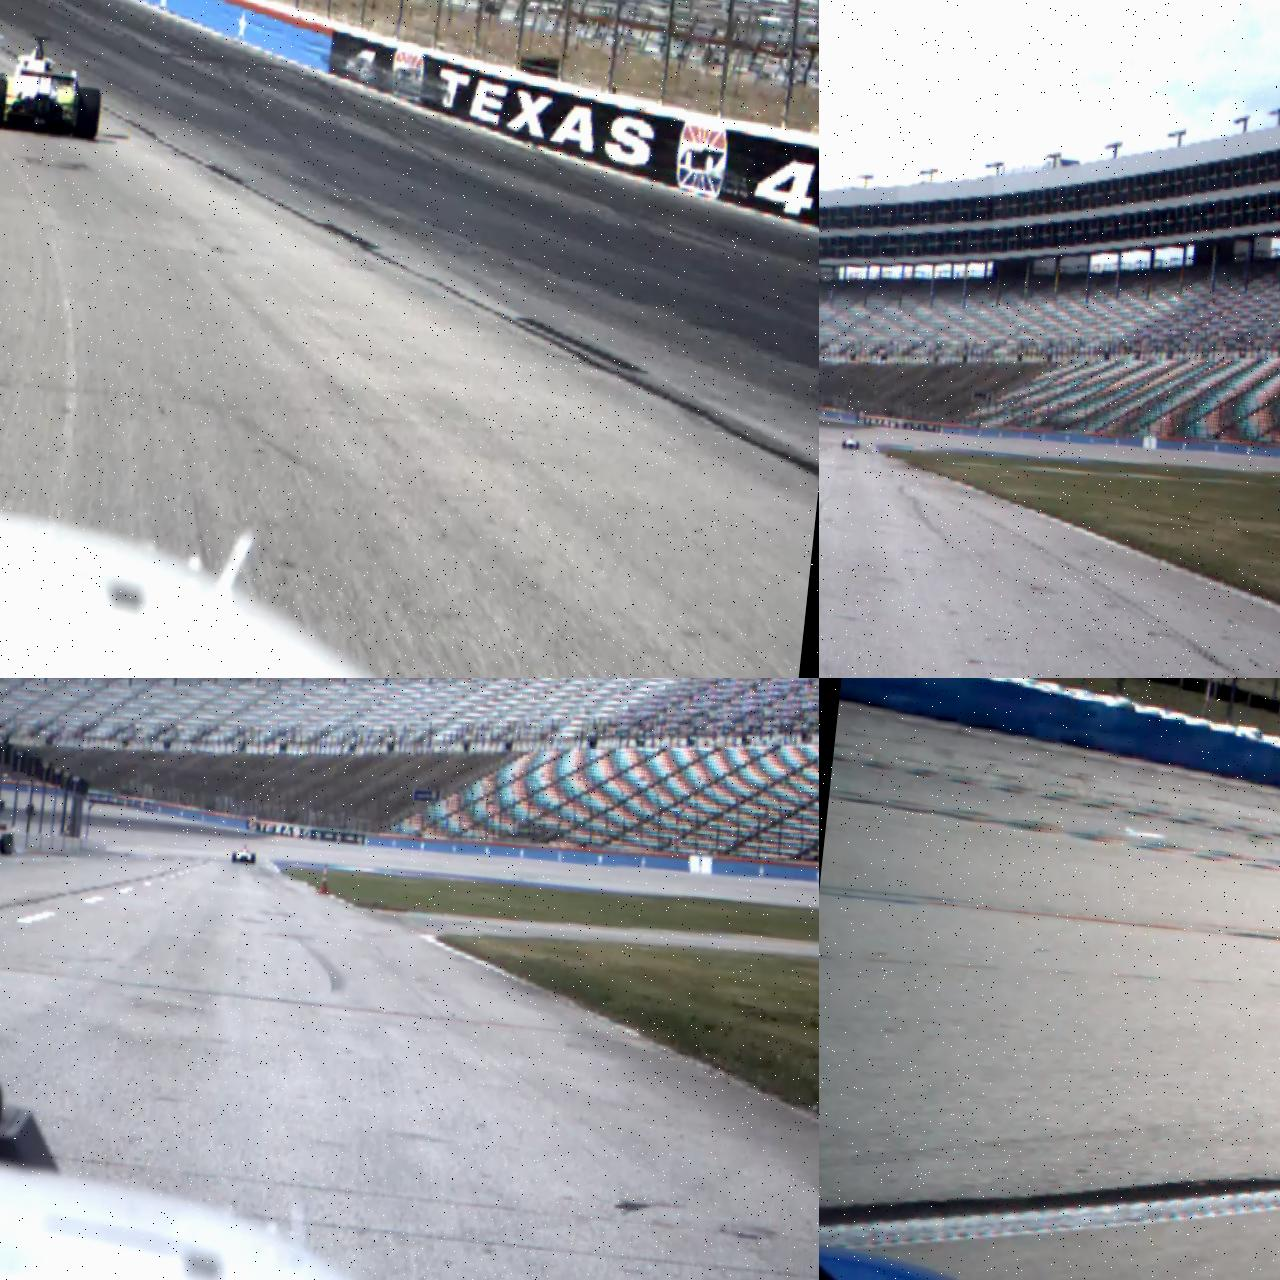AV: (0, 26, 108, 142), (231, 843, 257, 866), (842, 434, 862, 450)
Wheel: (73, 87, 102, 142), (0, 76, 7, 130), (0, 833, 15, 856), (232, 851, 237, 864), (251, 853, 256, 864), (842, 440, 846, 449), (857, 442, 859, 450)
